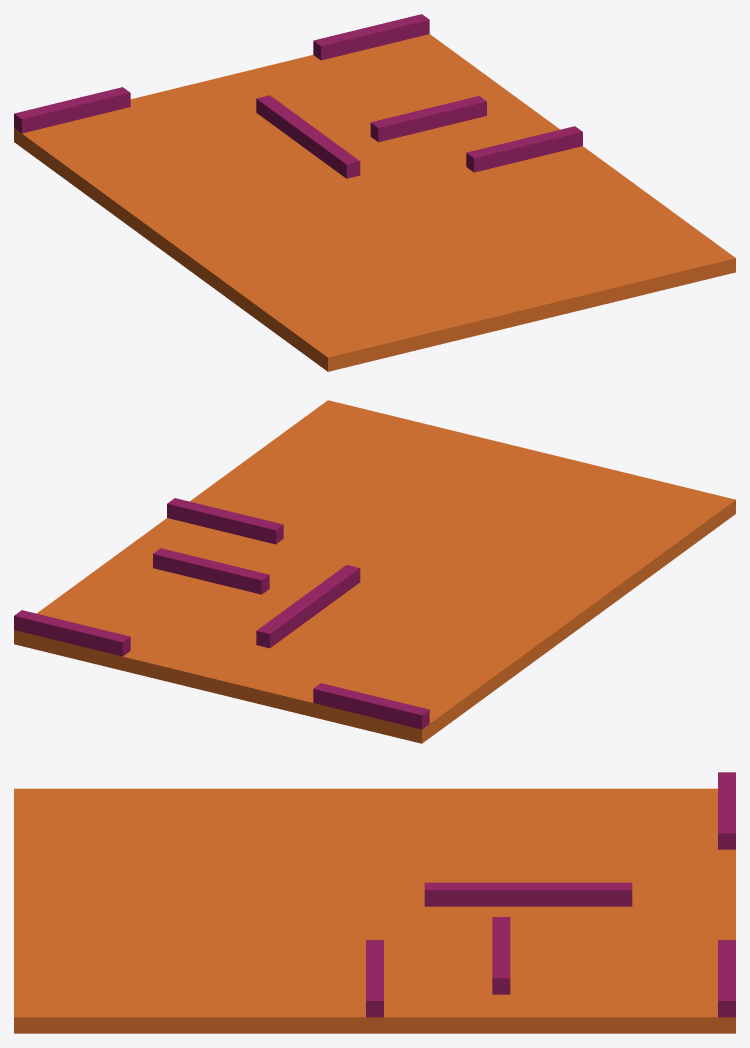
The picture shows the model from 3 angles, top to bottom: view 1: azimuth 30°, elevation 25°; view 2: azimuth 150°, elevation 25°; view 3: azimuth 270°, elevation 25°; orthographic projection. The views are drawn at different scales.
Visible parts, largest first — view 1: Ground, Cube__4_, Cube__3_, Cube__1_, Cube, Cube__2_; view 2: Ground, Cube__4_, Cube__1_, Cube, Cube__2_, Cube__3_; view 3: Ground, Cube__4_, Cube__1_, Cube, Cube__2_, Cube__3_.
Boxes of the visible parts, bbox=[...] form: Ground: bbox=[14, 34, 735, 371]; Cube__4_: bbox=[256, 95, 360, 178]; Cube__3_: bbox=[14, 87, 130, 133]; Cube__1_: bbox=[370, 96, 486, 142]; Cube: bbox=[466, 126, 582, 172]; Cube__2_: bbox=[313, 14, 429, 60]; Ground: bbox=[14, 400, 735, 743]; Cube__4_: bbox=[256, 565, 360, 648]; Cube__1_: bbox=[153, 548, 269, 594]; Cube: bbox=[167, 498, 283, 544]; Cube__2_: bbox=[14, 610, 130, 656]; Cube__3_: bbox=[313, 683, 429, 729]; Ground: bbox=[14, 788, 735, 1033]; Cube__4_: bbox=[424, 882, 632, 906]; Cube__1_: bbox=[492, 917, 510, 994]; Cube: bbox=[366, 940, 383, 1017]; Cube__2_: bbox=[718, 940, 735, 1017]; Cube__3_: bbox=[718, 772, 735, 849].
Size of the model in its own units: 3000 by 200 by 4000.
